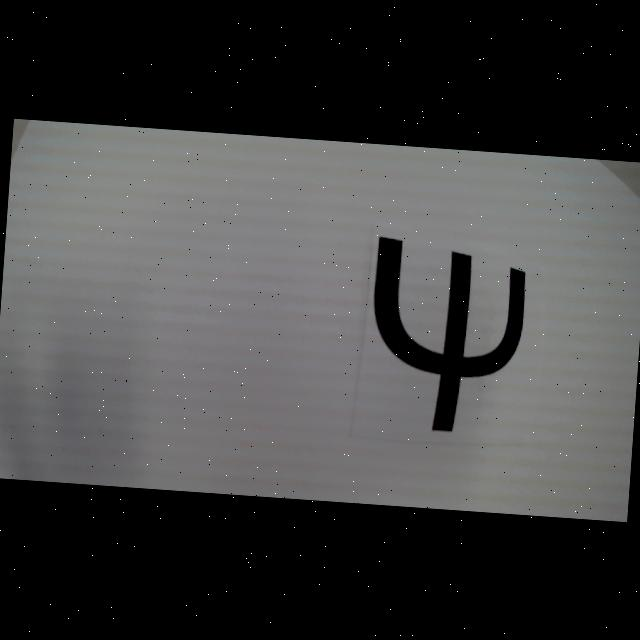PSI: (365, 237, 529, 438)
